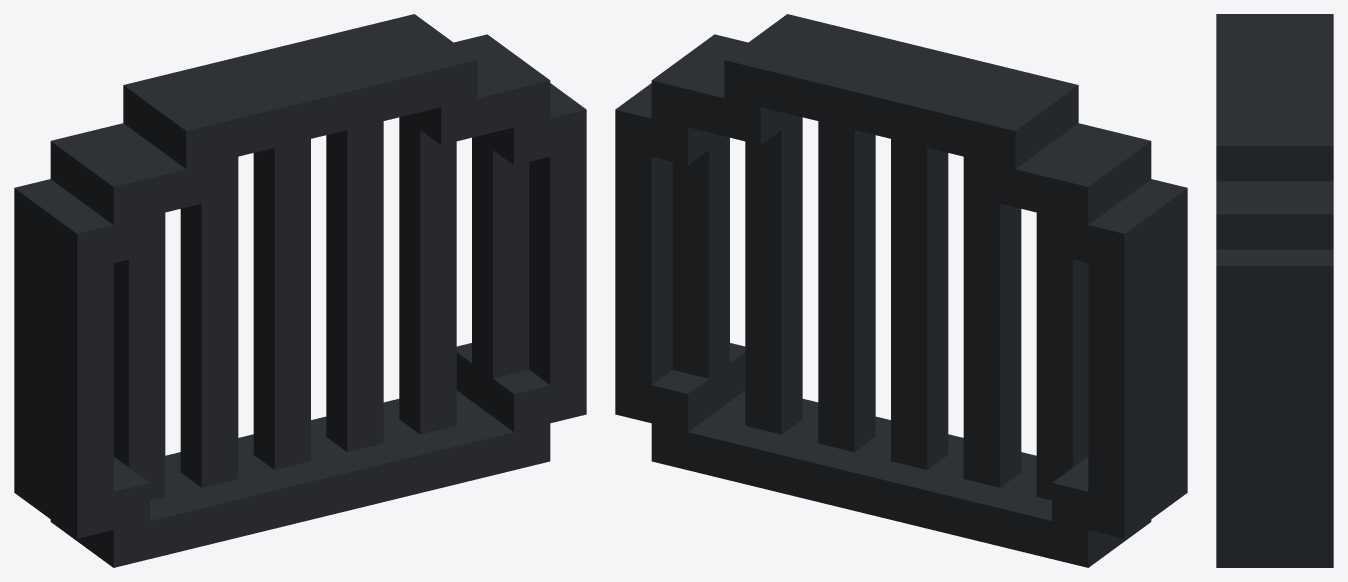
The model's file is boiler_door.glb.
3 views of the same model, side by side, from view 1: azimuth 30°, elevation 25°; view 2: azimuth 150°, elevation 25°; view 3: azimuth 270°, elevation 25° (orthographic). The views are drawn at different scales.
Parts seen in each view (by area): view 1: generated(Clone); view 2: generated(Clone); view 3: generated(Clone).
Part boxes in pixels (x1,y1,x2,y2): generated(Clone): (14, 14, 586, 567); generated(Clone): (615, 14, 1187, 567); generated(Clone): (1216, 14, 1333, 567).
Bounding box in the file's own units: 14 × 11 × 3.
1 material, 1 textured.
